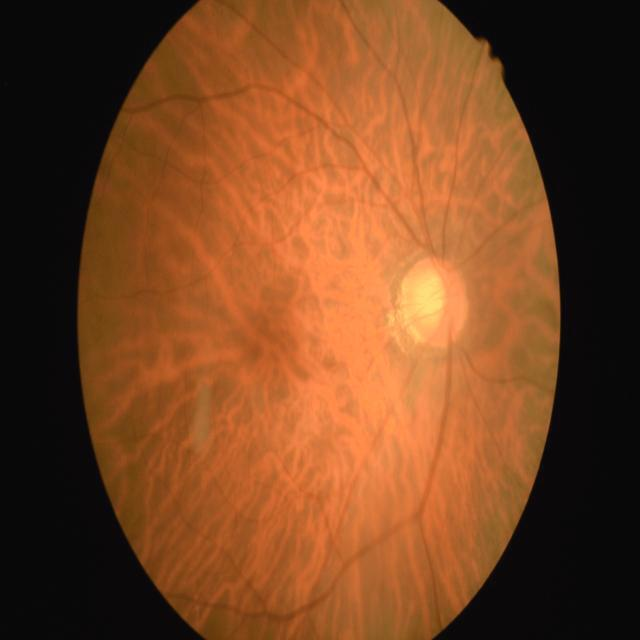cup: (412, 270, 458, 326)
disk: (398, 256, 470, 350)
